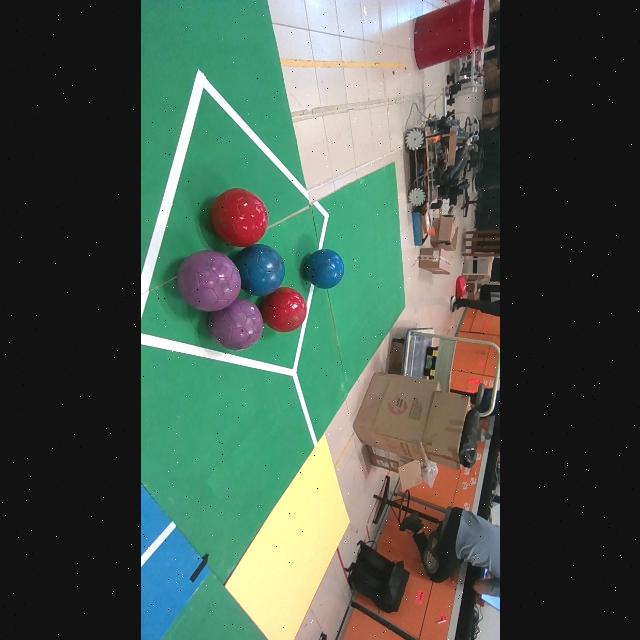B: (234, 244, 284, 296), (304, 249, 344, 289)
P: (175, 250, 240, 311), (208, 298, 264, 350)
R: (210, 188, 267, 246), (260, 288, 306, 333)
